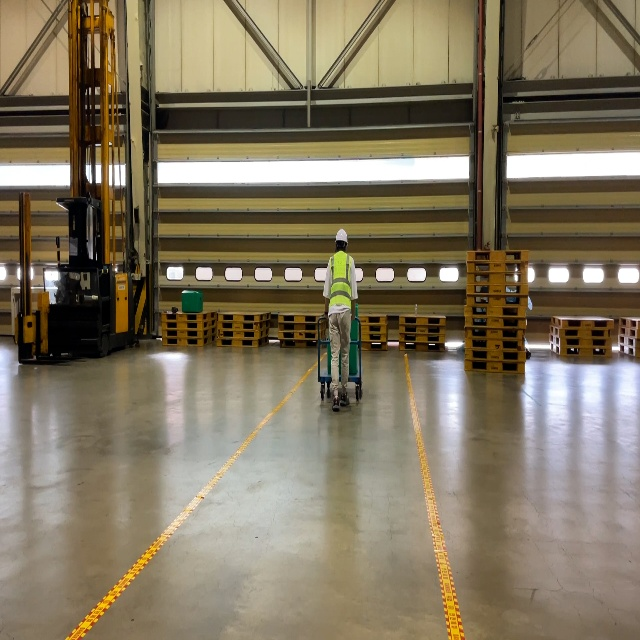Worker: (323, 229, 358, 411)
